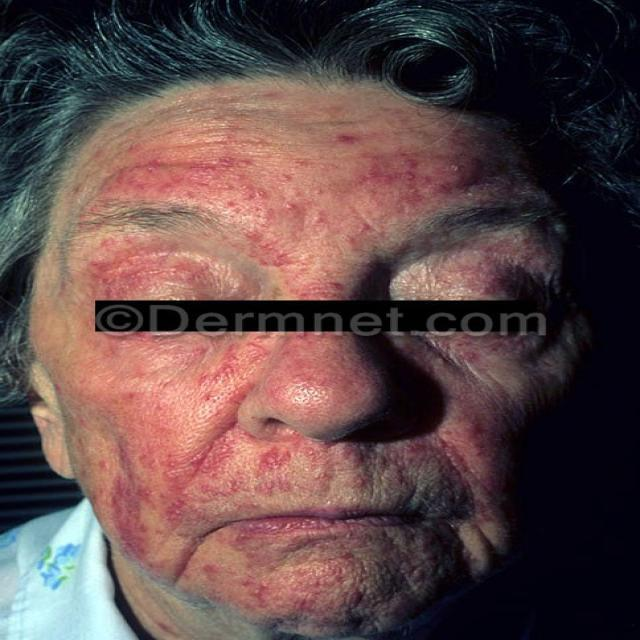skinredness: (139, 133, 516, 591)
